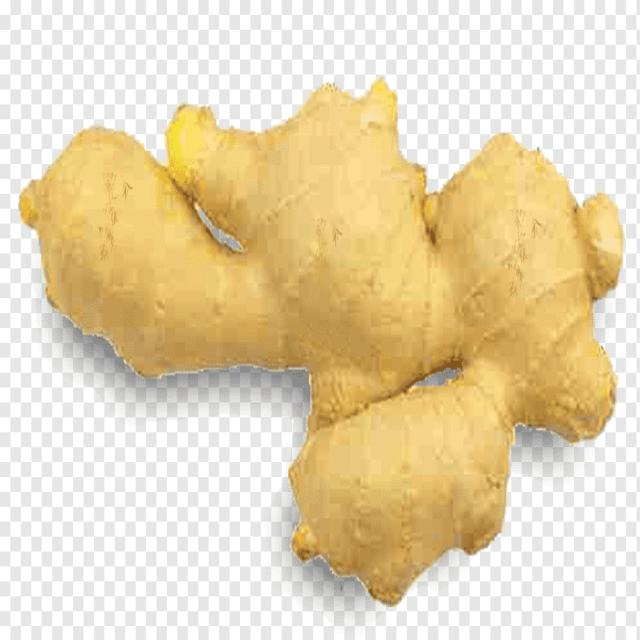ginger-root: (11, 76, 632, 618)
